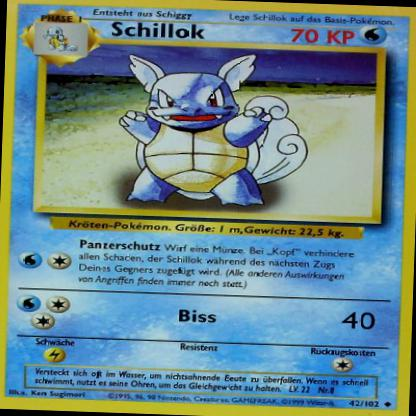Wartortle: (106, 50, 317, 215)
